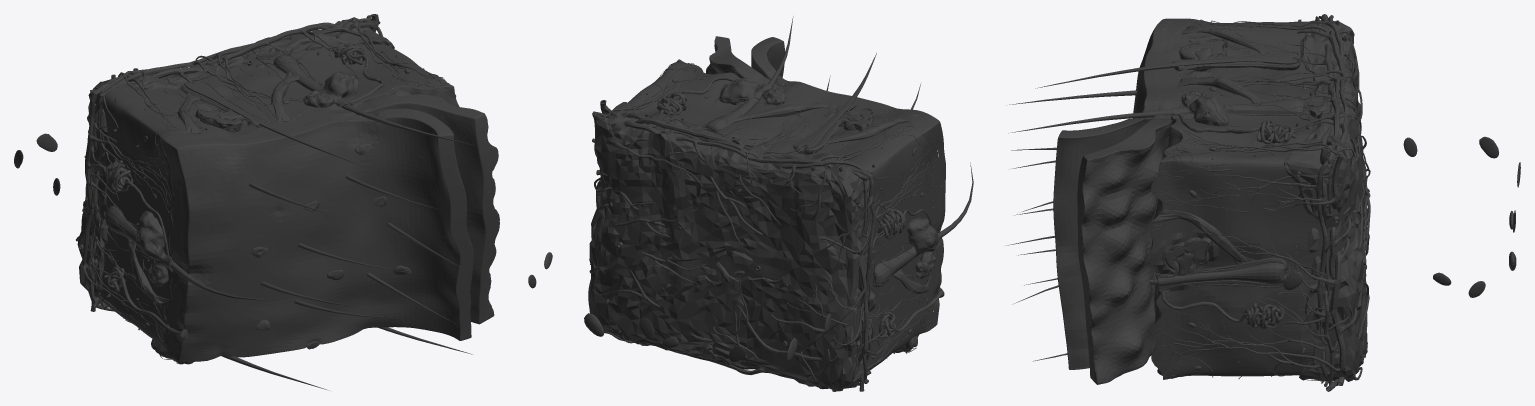
The model's file is sharedassets88.glb.
3 renders of one model, left to right at view 1: azimuth 30°, elevation 25°; view 2: azimuth 150°, elevation 25°; view 3: azimuth 270°, elevation 25°, orthographic. The views are drawn at different scales.
Visible parts, largest first — view 1: 0011_Stratum corneum__300671, 0003_Dermis _reticular___300826, 0026_Stratum spinosum__300687, 0001_Subcutaneous adipose tissue _fat___30067, 0006_Hair follicle__300668, 0029_Arteries__300657, 0023_Hair shaft__300663, 0008_Veins__300656, 0004_Dermis _papillary___300780, 0030_Sensory nerves__300660, 0017_Stratum granulosum__300655, 0012_Lymph__303562 (+12 smaller); view 2: 0001_Subcutaneous adipose tissue _fat___30067, 0003_Dermis _reticular___300826, 0008_Veins__300656, 0029_Arteries__300657, 0006_Hair follicle__300668, 0012_Lymph__303562, 0019_Subcutaneous areolar connective tissue__, 0030_Sensory nerves__300660, 0026_Stratum spinosum__300687, 0011_Stratum corneum__300671, 0009_Arrector pili__300659, 0004_Dermis _papillary___300780 (+8 smaller); view 3: 0003_Dermis _reticular___300826, 0025_Stratum basale__300690, 0001_Subcutaneous adipose tissue _fat___30067, 0017_Stratum granulosum__300655, 0029_Arteries__300657, 0008_Veins__300656, 0004_Dermis _papillary___300780, 0012_Lymph__303562, 0030_Sensory nerves__300660, 0026_Stratum spinosum__300687, 0009_Arrector pili__300659, 0019_Subcutaneous areolar connective tissue__ (+12 smaller).
Part boxes in pixels (box(x1,y1,x2,y2)): 0011_Stratum corneum__300671: box(172, 110, 470, 362); 0003_Dermis _reticular___300826: box(103, 42, 442, 343); 0026_Stratum spinosum__300687: box(161, 96, 497, 356); 0001_Subcutaneous adipose tissue _fat___30067: box(77, 17, 394, 308); 0006_Hair follicle__300668: box(105, 55, 358, 364); 0029_Arteries__300657: box(82, 14, 445, 364); 0023_Hair shaft__300663: box(170, 104, 477, 390); 0008_Veins__300656: box(78, 15, 456, 361); 0004_Dermis _papillary___300780: box(157, 78, 451, 349); 0030_Sensory nerves__300660: box(83, 19, 404, 327); 0017_Stratum granulosum__300655: box(170, 108, 473, 358); 0012_Lymph__303562: box(76, 21, 449, 319); 0001_Subcutaneous adipose tissue _fat___30067: box(589, 102, 876, 391); 0003_Dermis _reticular___300826: box(628, 64, 928, 370); 0008_Veins__300656: box(592, 64, 935, 391); 0029_Arteries__300657: box(588, 62, 937, 391); 0006_Hair follicle__300668: box(704, 78, 939, 352); 0012_Lymph__303562: box(593, 61, 931, 382); 0019_Subcutaneous areolar connective tissue__: box(607, 132, 871, 360); 0030_Sensory nerves__300660: box(590, 77, 923, 388); 0026_Stratum spinosum__300687: box(713, 37, 939, 331); 0011_Stratum corneum__300671: box(755, 37, 945, 327); 0009_Arrector pili__300659: box(734, 103, 929, 293); 0004_Dermis _papillary___300780: box(672, 59, 933, 335); 0003_Dermis _reticular___300826: box(1163, 21, 1318, 377); 0025_Stratum basale__300690: box(1079, 19, 1198, 384); 0001_Subcutaneous adipose tissue _fat___30067: box(1284, 20, 1367, 381); 0017_Stratum granulosum__300655: box(1053, 18, 1175, 369); 0029_Arteries__300657: box(1150, 14, 1369, 385); 0008_Veins__300656: box(1151, 15, 1370, 391); 0004_Dermis _papillary___300780: box(1149, 20, 1207, 379); 0012_Lymph__303562: box(1154, 16, 1369, 386); 0030_Sensory nerves__300660: box(1174, 16, 1370, 383); 0026_Stratum spinosum__300687: box(1077, 18, 1194, 382); 0009_Arrector pili__300659: box(1151, 25, 1275, 264); 0019_Subcutaneous areolar connective tissue__: box(1296, 52, 1364, 371).
Bounding box in the file's own units: 2.07 × 1.58 × 2.89.
1 material, 1 textured.
